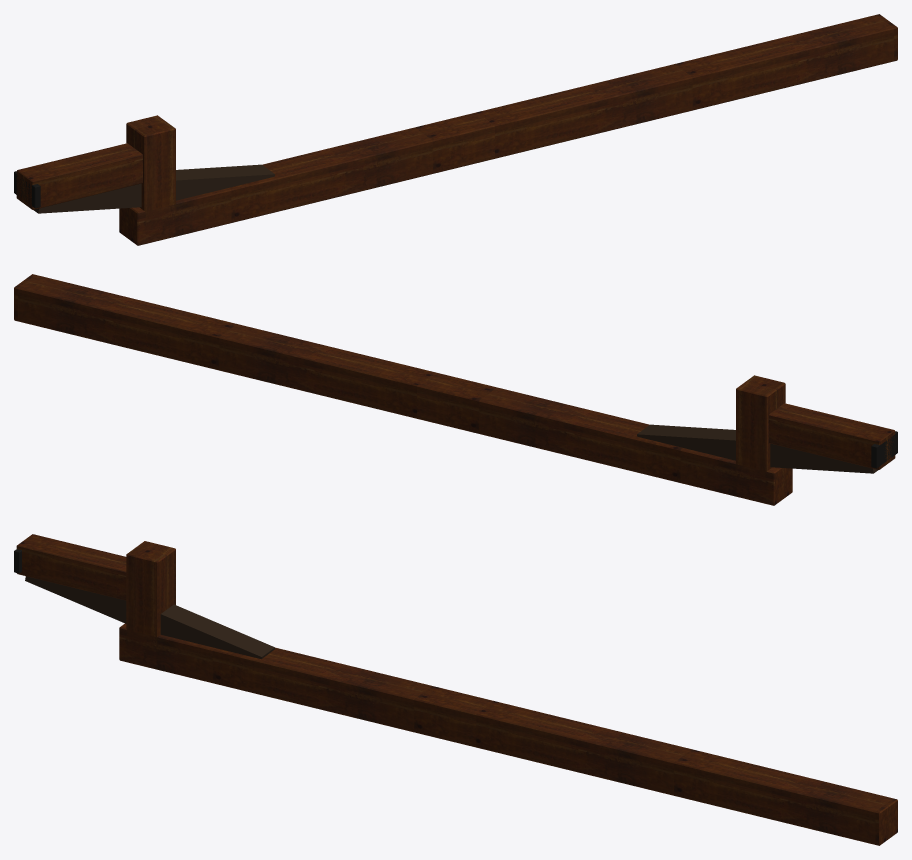
The model's file is roof-tie-590.glb.
The picture shows the model from 3 angles, top to bottom: view 1: azimuth 30°, elevation 25°; view 2: azimuth 150°, elevation 25°; view 3: azimuth 330°, elevation 25°; orthographic projection.
Parts seen in each view (by area): view 1: roof-tie-590; view 2: roof-tie-590; view 3: roof-tie-590.
Boxes of the visible parts, box(x1,y1,x2,y2) form: roof-tie-590: box(14, 14, 897, 245); roof-tie-590: box(14, 274, 897, 505); roof-tie-590: box(14, 534, 897, 845).
Bounding box in the file's own units: 3.75 × 0.45 × 0.16.
Materials: 1 (1 with a texture image).
